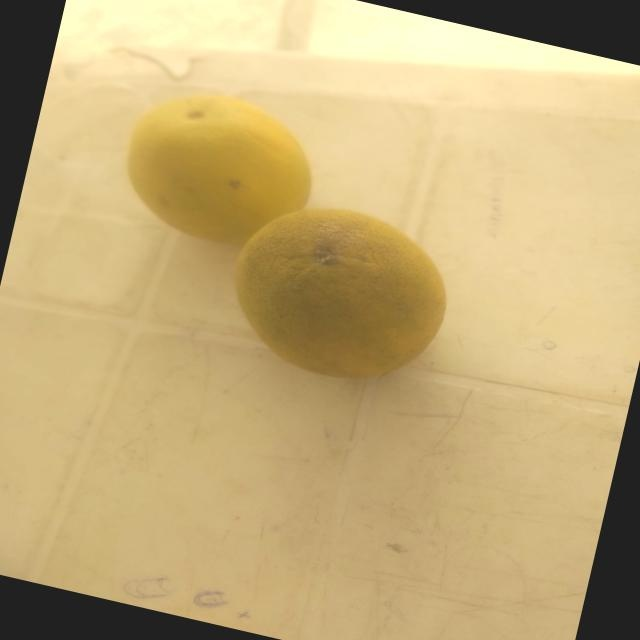agrume: (200, 188, 469, 411), (82, 78, 318, 274)
